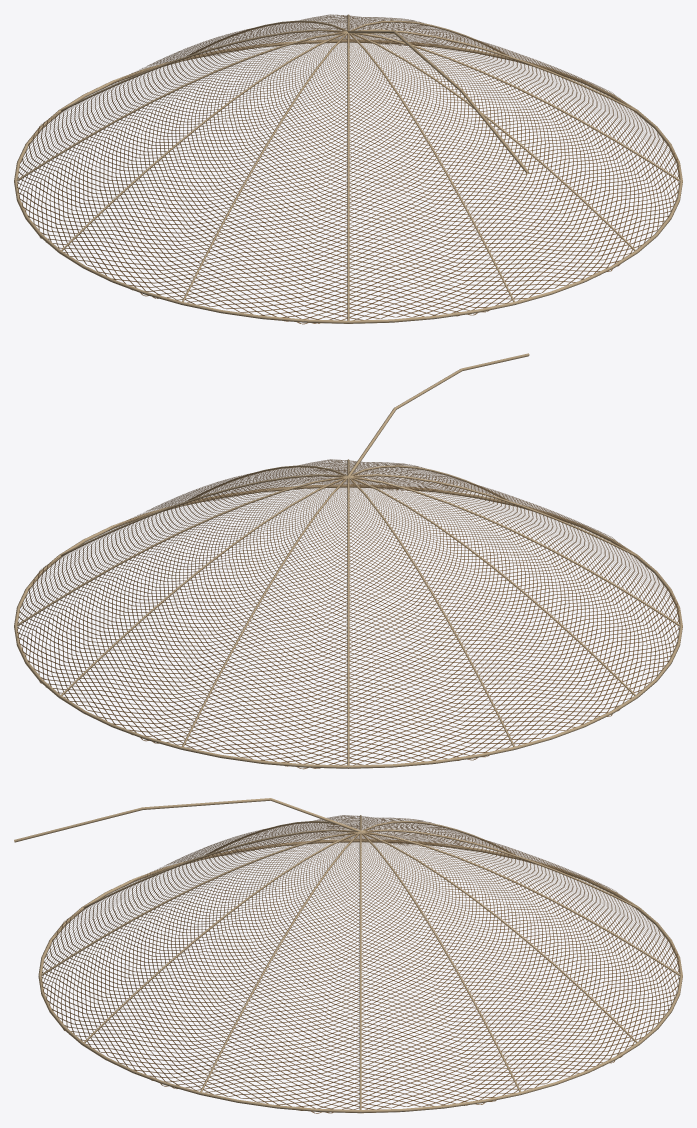
The model's file is veesu_vala_spread.glb.
3 views of the same model, one above another, from view 1: azimuth 30°, elevation 25°; view 2: azimuth 150°, elevation 25°; view 3: azimuth 270°, elevation 25° (orthographic). The views are drawn at different scales.
Visible parts, largest first — view 1: VeesuVala_Canopy, VeesuVala_FootRope, VeesuVala_DrawCord_5, VeesuVala_HaulLine, VeesuVala_DrawCord_11, VeesuVala_DrawCord_6, VeesuVala_DrawCord_8, VeesuVala_DrawCord_10, VeesuVala_DrawCord_7, VeesuVala_DrawCord_9, VeesuVala_DrawCord_4, VeesuVala_DrawCord_0; view 2: VeesuVala_Canopy, VeesuVala_FootRope, VeesuVala_DrawCord_1, VeesuVala_DrawCord_7, VeesuVala_DrawCord_6, VeesuVala_DrawCord_2, VeesuVala_DrawCord_4, VeesuVala_HaulLine, VeesuVala_DrawCord_5, VeesuVala_DrawCord_3, VeesuVala_DrawCord_0, VeesuVala_DrawCord_8; view 3: VeesuVala_Canopy, VeesuVala_FootRope, VeesuVala_HaulLine, VeesuVala_DrawCord_9, VeesuVala_DrawCord_3, VeesuVala_DrawCord_0, VeesuVala_DrawCord_10, VeesuVala_DrawCord_2, VeesuVala_DrawCord_1, VeesuVala_DrawCord_11, VeesuVala_DrawCord_4, VeesuVala_DrawCord_8.
Part boxes in pixels (x1,y1,x2,y2): VeesuVala_Canopy: (17,14,679,324); VeesuVala_FootRope: (14,39,682,323); VeesuVala_DrawCord_5: (16,31,346,181); VeesuVala_HaulLine: (347,30,529,174); VeesuVala_DrawCord_11: (355,33,680,181); VeesuVala_DrawCord_6: (61,32,346,250); VeesuVala_DrawCord_8: (347,32,349,320); VeesuVala_DrawCord_10: (352,33,635,250); VeesuVala_DrawCord_7: (182,32,347,301); VeesuVala_DrawCord_9: (349,33,514,301); VeesuVala_DrawCord_4: (60,29,346,111); VeesuVala_DrawCord_0: (357,29,636,111); VeesuVala_Canopy: (17,459,679,769); VeesuVala_FootRope: (14,484,682,768); VeesuVala_DrawCord_1: (16,476,347,626); VeesuVala_DrawCord_7: (350,476,680,626); VeesuVala_DrawCord_6: (349,476,635,695); VeesuVala_DrawCord_2: (61,476,347,695); VeesuVala_DrawCord_4: (347,476,349,765); VeesuVala_HaulLine: (347,353,529,476); VeesuVala_DrawCord_5: (348,476,514,746); VeesuVala_DrawCord_3: (182,476,348,746); VeesuVala_DrawCord_0: (60,474,346,555); VeesuVala_DrawCord_8: (351,474,636,556); VeesuVala_Canopy: (41,815,679,1113); VeesuVala_FootRope: (38,839,682,1113); VeesuVala_HaulLine: (14,798,360,842); VeesuVala_DrawCord_9: (40,832,357,975); VeesuVala_DrawCord_3: (361,831,680,975); VeesuVala_DrawCord_0: (359,832,361,1109); VeesuVala_DrawCord_10: (83,832,358,1042); VeesuVala_DrawCord_2: (361,831,637,1042); VeesuVala_DrawCord_1: (361,831,520,1091); VeesuVala_DrawCord_11: (200,832,360,1091); VeesuVala_DrawCord_4: (362,829,637,908); VeesuVala_DrawCord_8: (83,829,355,908).
Size of the model in its own units: 2.51 by 0.781 by 2.61.
3 materials, 1 textured.
